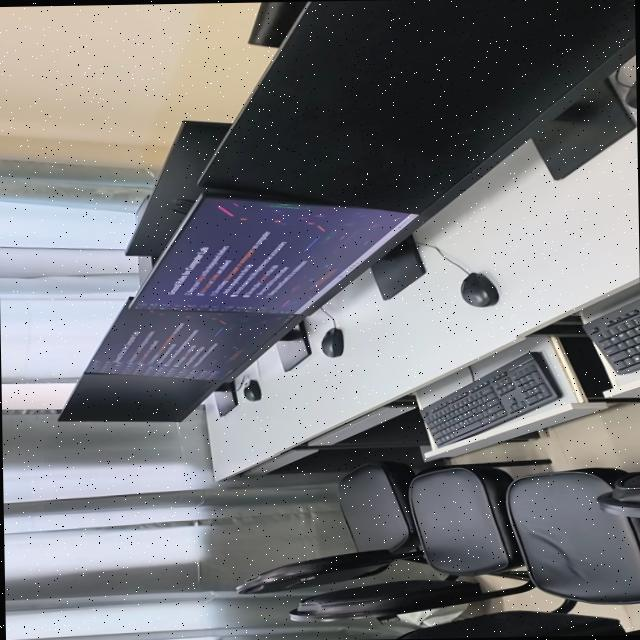Chair: (395, 467, 640, 639), (289, 459, 546, 622), (236, 461, 421, 592), (248, 0, 307, 46), (597, 471, 640, 517)
Keyboard: (420, 351, 561, 446), (582, 293, 640, 374)
Monitor: (200, 0, 635, 230), (133, 198, 415, 313), (86, 301, 291, 379), (125, 119, 229, 258), (59, 372, 216, 420)
Mouse: (460, 271, 498, 306), (320, 327, 343, 356), (243, 378, 260, 400)
